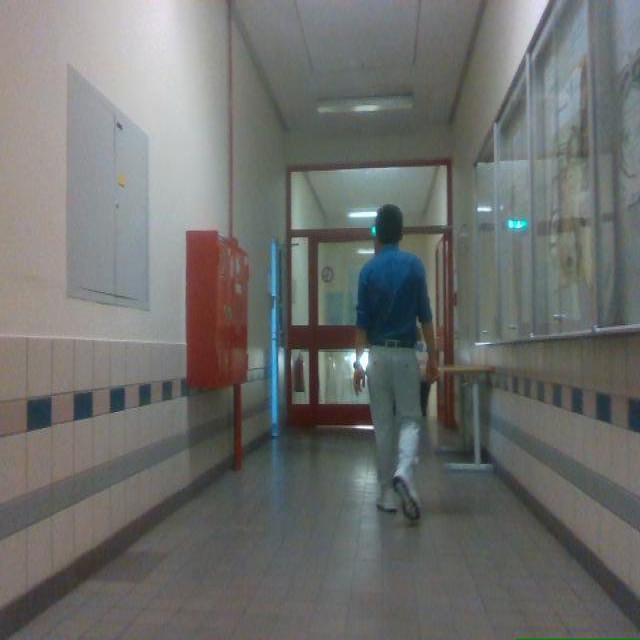humans: (354, 204, 434, 522)
